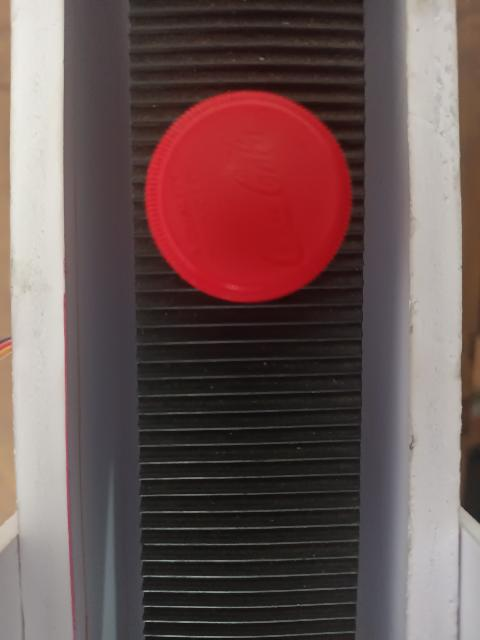bottlecap: (148, 90, 354, 304)
